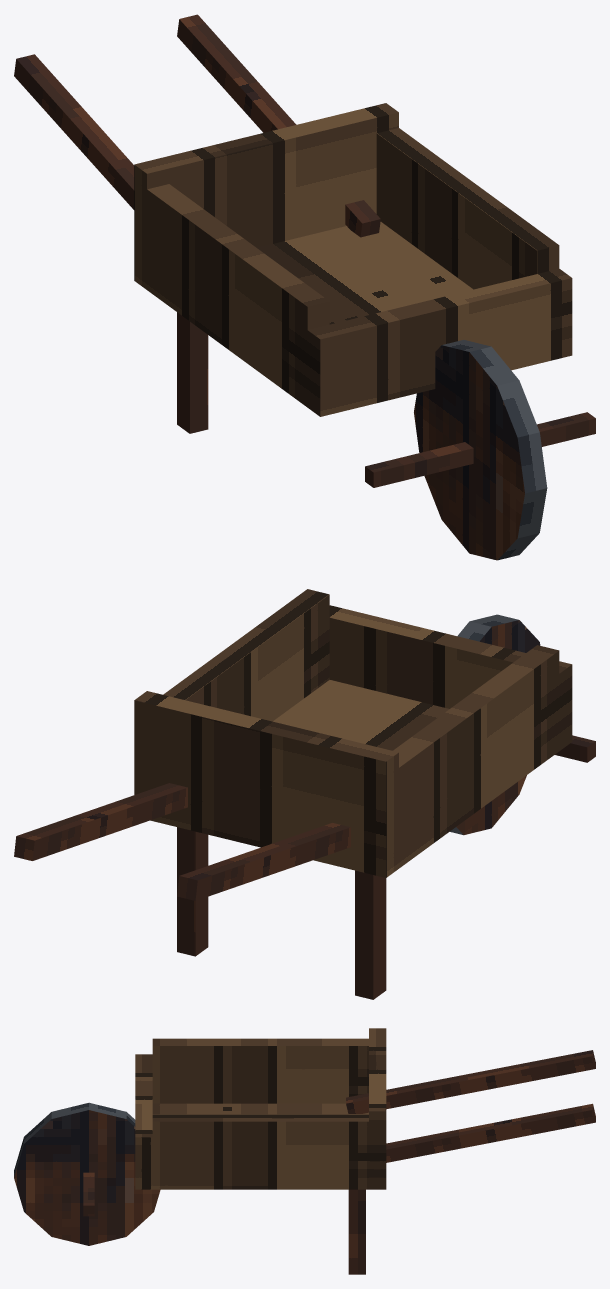
The model's file is MV_Wheelbarrow.glb.
The picture shows the model from 3 angles, top to bottom: view 1: azimuth 30°, elevation 25°; view 2: azimuth 150°, elevation 25°; view 3: azimuth 270°, elevation 25°; orthographic projection. The views are drawn at different scales.
Parts seen in each view (by area): view 1: MV_Wheelbarrow_A.MV_Wheelbarrow; view 2: MV_Wheelbarrow_A.MV_Wheelbarrow; view 3: MV_Wheelbarrow_A.MV_Wheelbarrow.
Boxes of the visible parts, x1=… form: MV_Wheelbarrow_A.MV_Wheelbarrow: x1=14, y1=14, x2=595, y2=560; MV_Wheelbarrow_A.MV_Wheelbarrow: x1=14, y1=589, x2=595, y2=999; MV_Wheelbarrow_A.MV_Wheelbarrow: x1=14, y1=1028, x2=595, y2=1274.
Size of the model in its own units: 0.68 by 0.66 by 2.02.
Materials: 4 (4 with a texture image).
